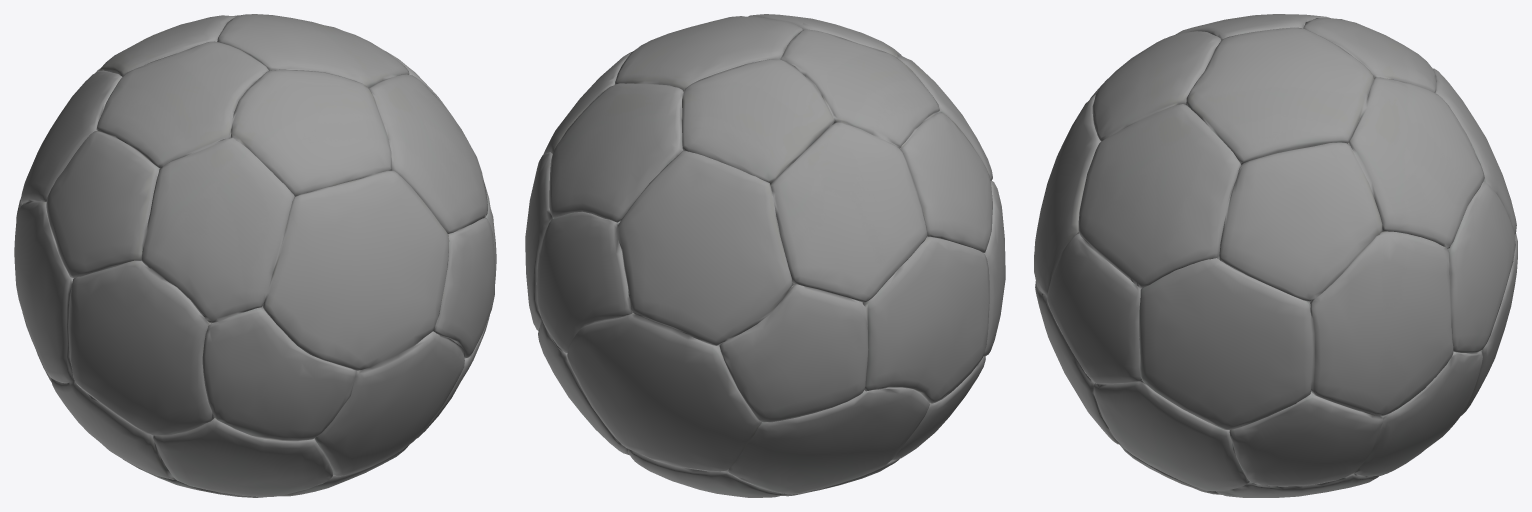
File: r33-ball.glb
The picture shows the model from 3 angles, left to right: view 1: azimuth 30°, elevation 25°; view 2: azimuth 150°, elevation 25°; view 3: azimuth 270°, elevation 25°; orthographic projection.
Parts seen in each view (by area): view 1: tripo_node_5aa3d499-edae-475d-8b60-797a3e9ea50d; view 2: tripo_node_5aa3d499-edae-475d-8b60-797a3e9ea50d; view 3: tripo_node_5aa3d499-edae-475d-8b60-797a3e9ea50d.
Part boxes in pixels (box(x1,y1,x2,y2)): tripo_node_5aa3d499-edae-475d-8b60-797a3e9ea50d: box(14, 14, 496, 497); tripo_node_5aa3d499-edae-475d-8b60-797a3e9ea50d: box(525, 14, 1005, 497); tripo_node_5aa3d499-edae-475d-8b60-797a3e9ea50d: box(1034, 14, 1517, 497).
Bounding box in the file's own units: 0.998 × 0.998 × 0.998.
Materials: 1 (1 with a texture image).
